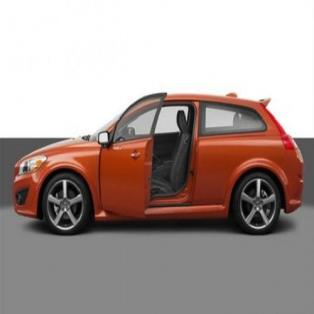Auto: (12, 92, 304, 237)
